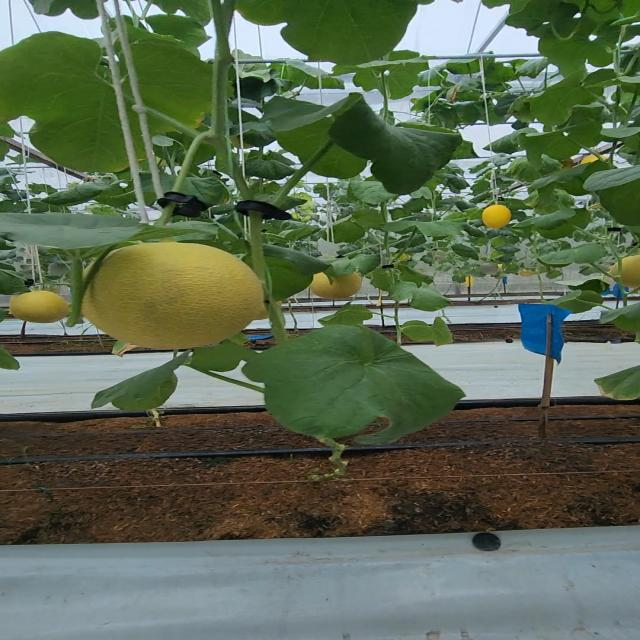Melon: (80, 242, 268, 352), (4, 288, 73, 324), (308, 270, 368, 299), (480, 205, 508, 229)
